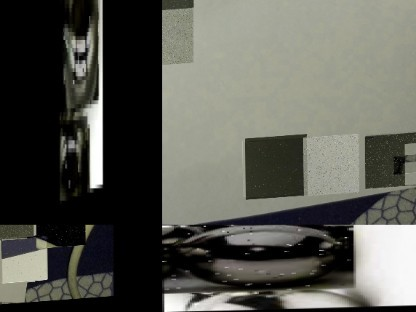ironball: (164, 216, 353, 280), (182, 284, 367, 310), (59, 0, 98, 118), (59, 117, 87, 206), (404, 147, 415, 189)
